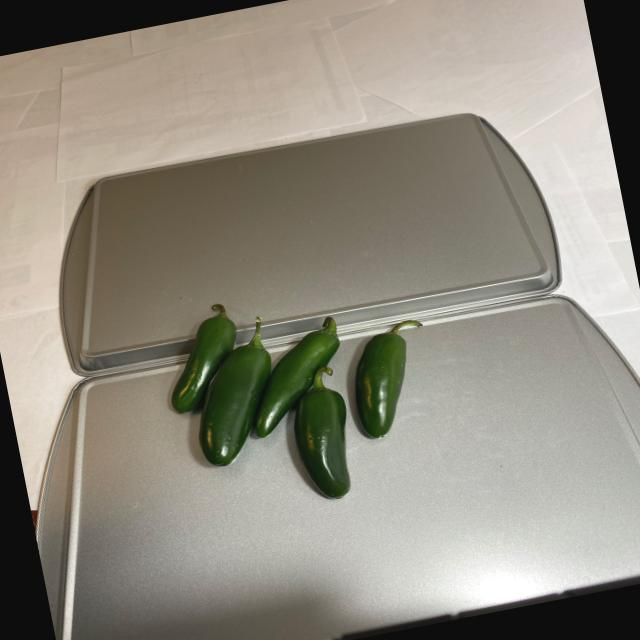chilli: (142, 261, 457, 530)
